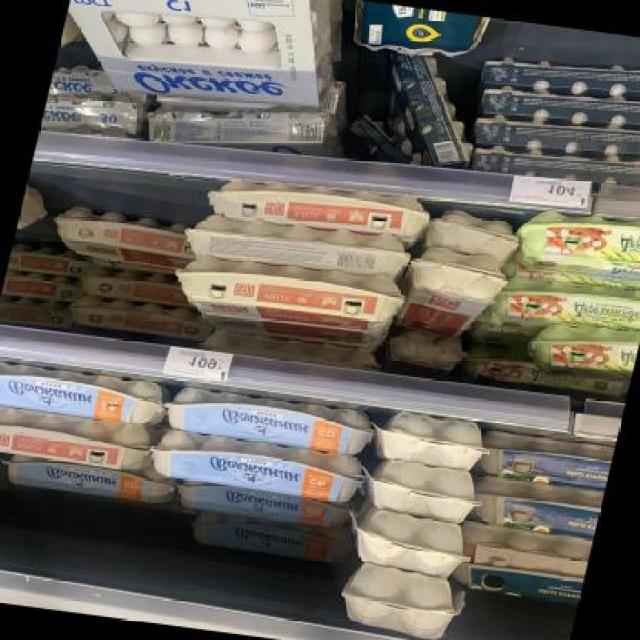Egg: (169, 250, 402, 336), (204, 172, 427, 242), (0, 403, 149, 474), (470, 430, 615, 493), (458, 478, 604, 540), (350, 509, 468, 576), (364, 458, 481, 525), (374, 409, 491, 476)
